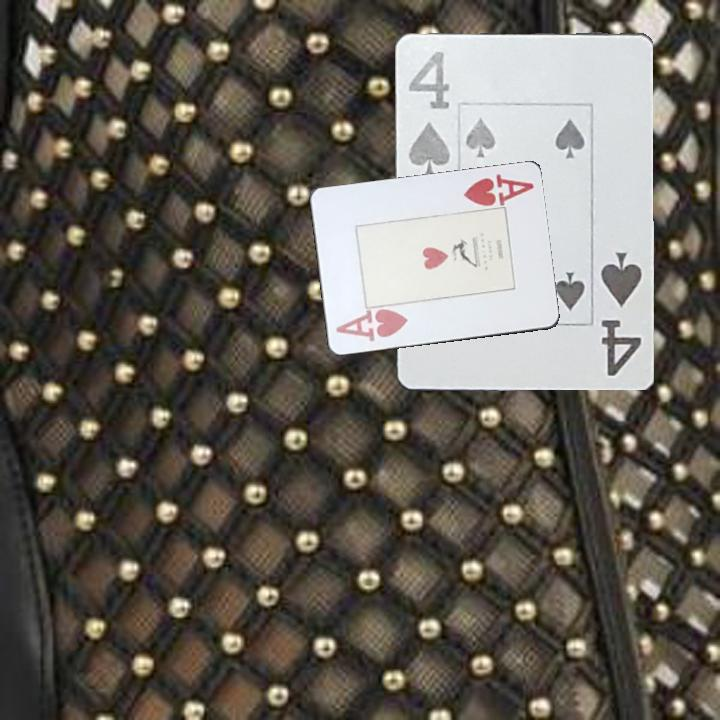4s: (405, 47, 454, 178), (597, 247, 645, 379)
Ah: (332, 306, 411, 345), (460, 170, 536, 209)
